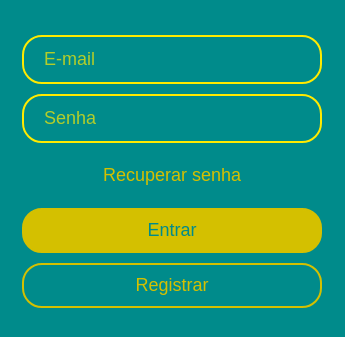
Login › Dado email, quando inválido, mostrar mensagem de erro email inválido
Type "anyValue" into the field with test id "email".
click(172, 59); type("anyValue")  # box [22,34,322,84]
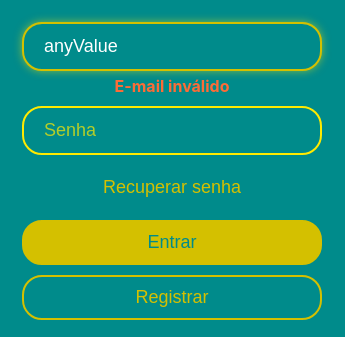
Expected: the text "E-mail inválido" is shown, [115,76,230,96]
